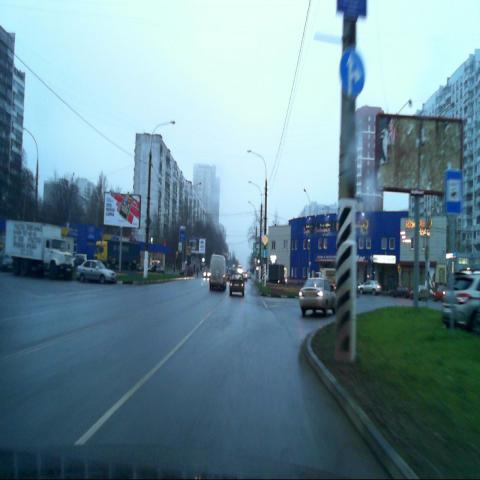5_18: (445, 170, 462, 215)
